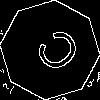C: (25, 25, 84, 82)
